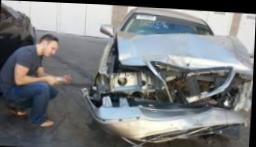Bonnet: (116, 30, 253, 65)
Bumper: (80, 55, 254, 139)
